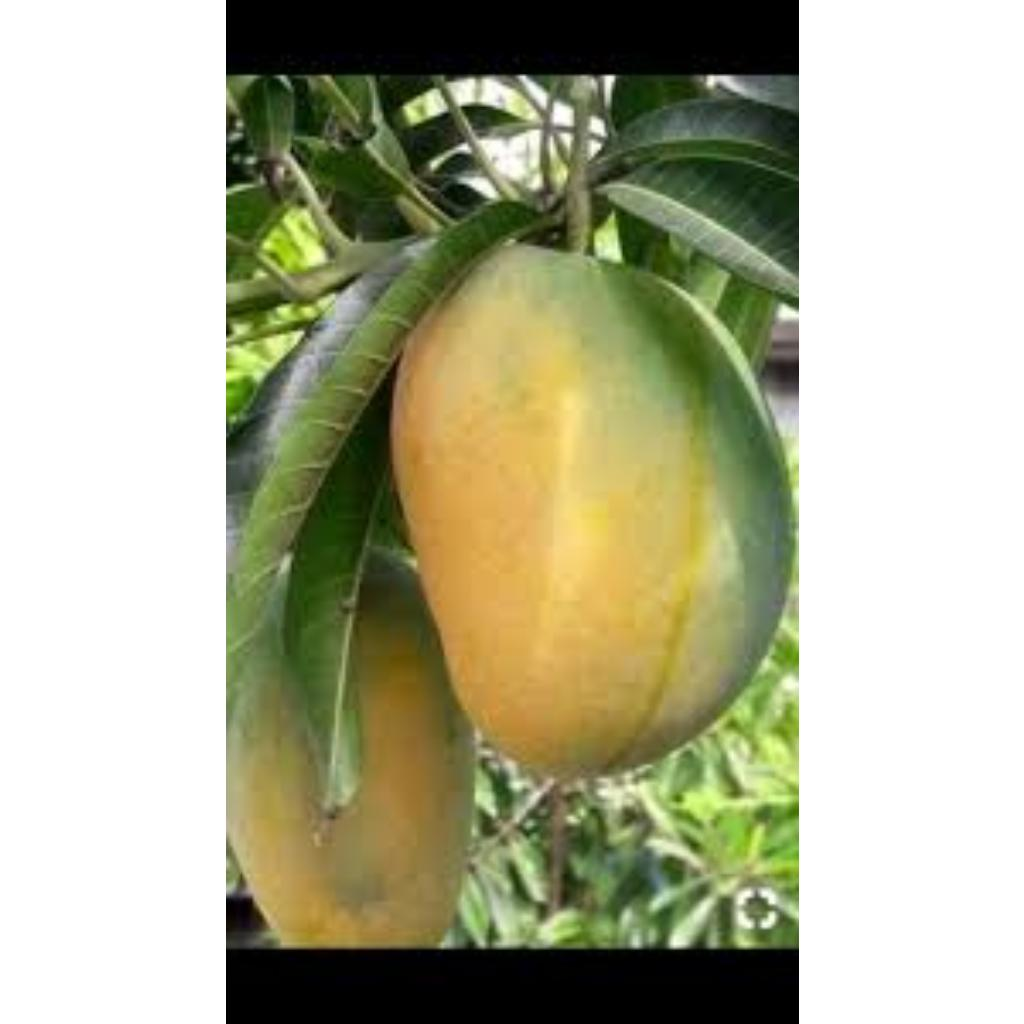mango: (392, 246, 795, 785)
